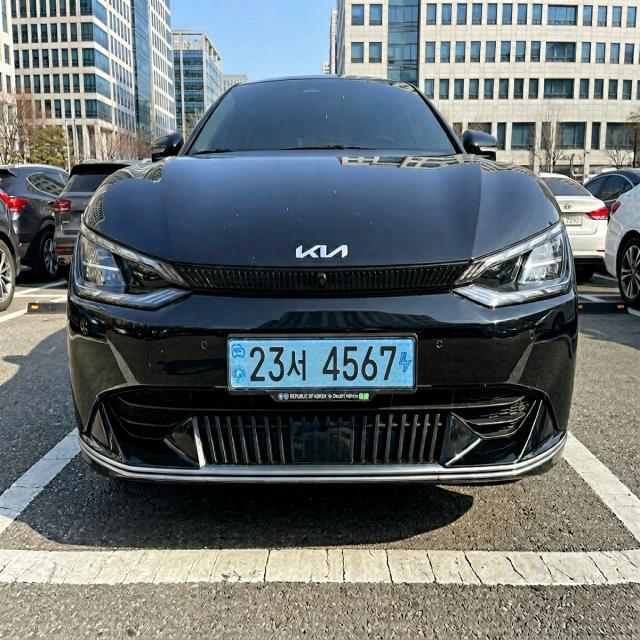car: (215, 323, 449, 409)
carev: (229, 339, 249, 392), (395, 340, 415, 388)
